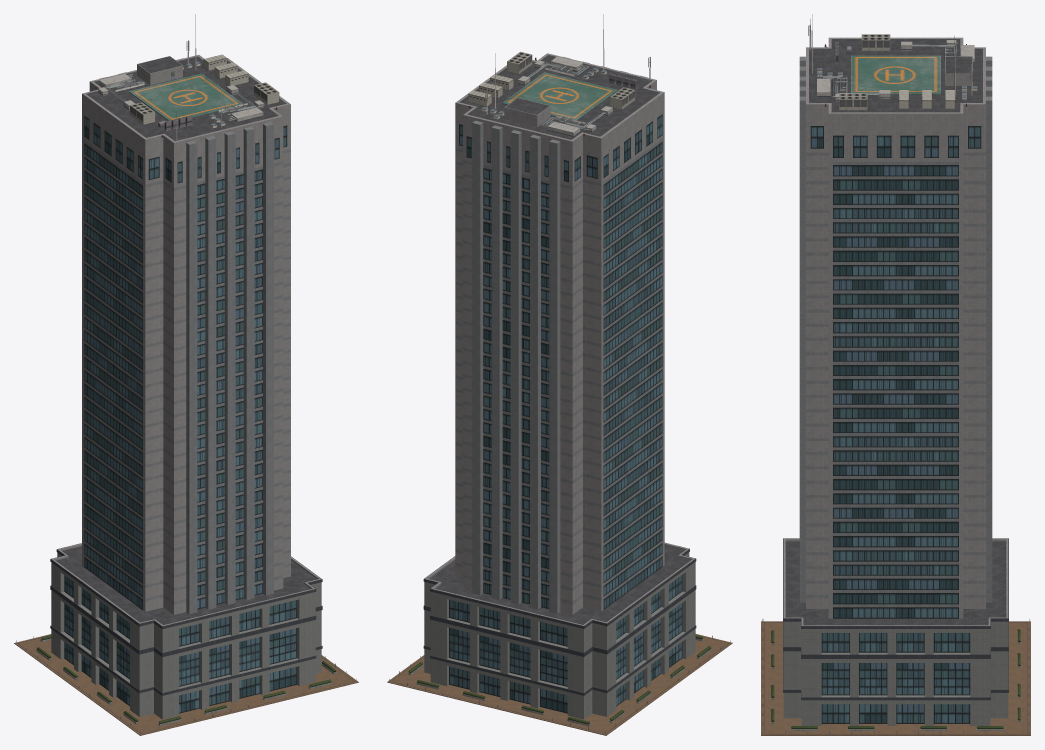
Rendered from jctlowBld50_Ca.fbx.
3 renders of one model, left to right at view 1: azimuth 30°, elevation 25°; view 2: azimuth 150°, elevation 25°; view 3: azimuth 270°, elevation 25°, orthographic. The views are drawn at different scales.
Visible parts, largest first — view 1: jctlowBld50_Ca; view 2: jctlowBld50_Ca; view 3: jctlowBld50_Ca.
Boxes of the visible parts, left/top/right/bottom form: jctlowBld50_Ca: left=14, top=14, right=358, bottom=735; jctlowBld50_Ca: left=387, top=14, right=732, bottom=735; jctlowBld50_Ca: left=761, top=14, right=1030, bottom=735.
Size of the model in its own units: 6000 by 16258 by 6000.
Materials: 11 (11 with a texture image).
